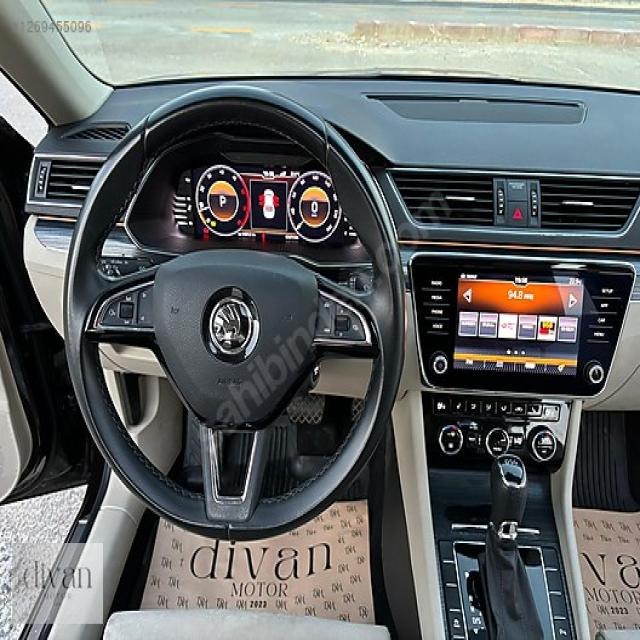skoda: (207, 299, 254, 352)
